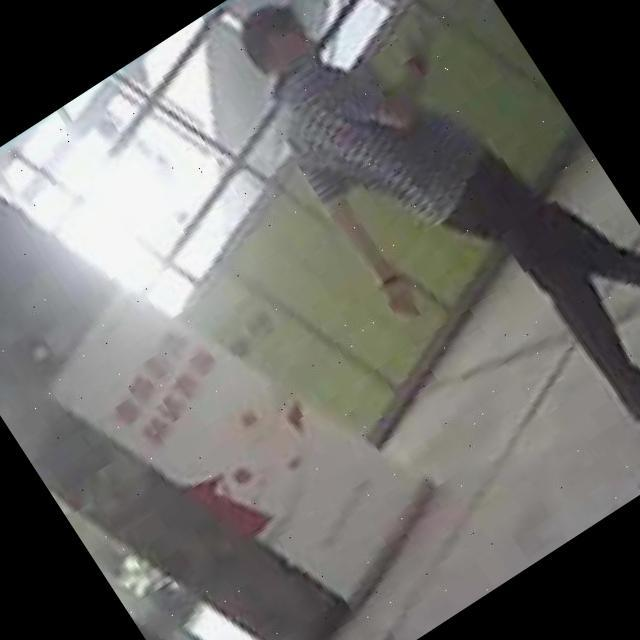person: (211, 0, 640, 504)
